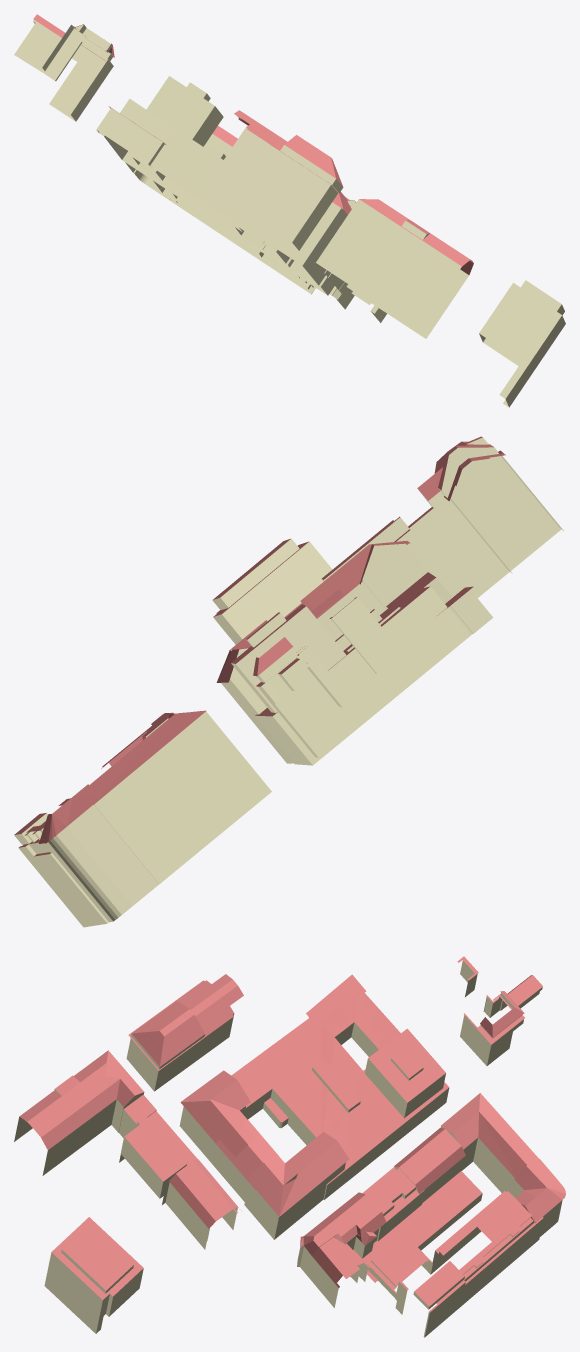
The model's file is tile_022.glb.
3 views of the same model, one above another, from view 1: azimuth 30°, elevation 25°; view 2: azimuth 150°, elevation 25°; view 3: azimuth 270°, elevation 25° (orthographic). The views are drawn at different scales.
Visible parts, largest first — view 1: Batched_Building_ID_BFE1AA22-4220-4681-88E7-FF7C7A142CDF; view 2: Batched_Building_ID_BFE1AA22-4220-4681-88E7-FF7C7A142CDF; view 3: Batched_Building_ID_BFE1AA22-4220-4681-88E7-FF7C7A142CDF.
Boxes of the visible parts, <box> form: Batched_Building_ID_BFE1AA22-4220-4681-88E7-FF7C7A142CDF: <box>14,14,565,407</box>; Batched_Building_ID_BFE1AA22-4220-4681-88E7-FF7C7A142CDF: <box>14,436,563,927</box>; Batched_Building_ID_BFE1AA22-4220-4681-88E7-FF7C7A142CDF: <box>14,956,565,1337</box>.
Bounding box in the file's own units: 125 × 110 × 194.
